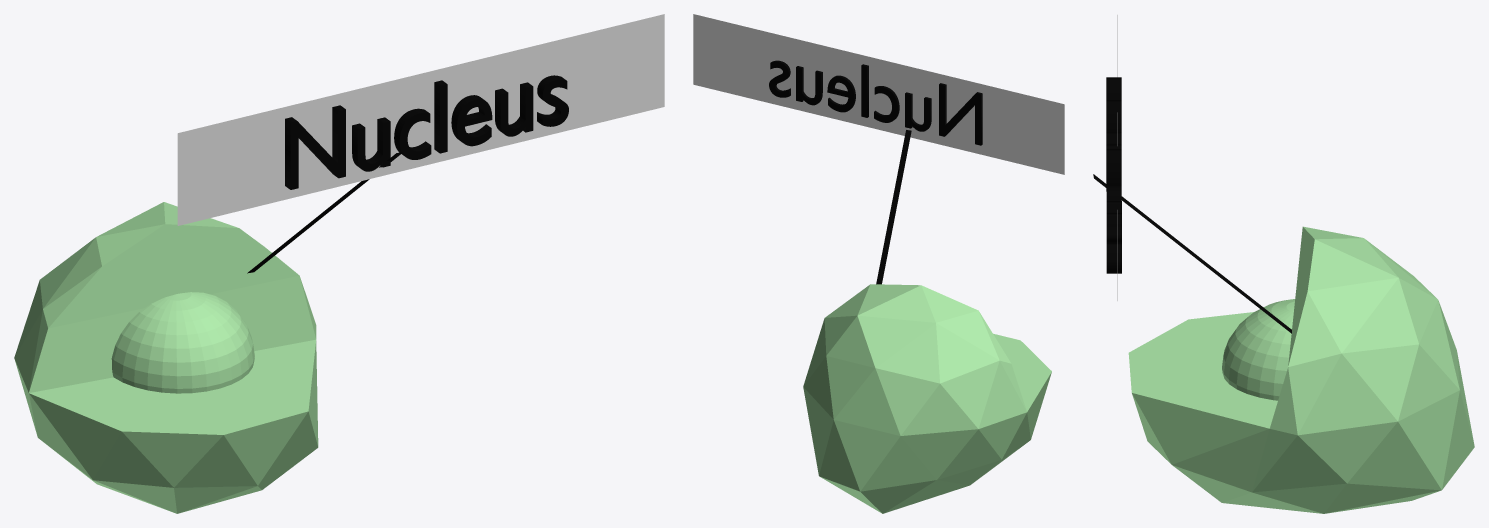
Rendered from nucleus.gltf.
The picture shows the model from 3 angles, left to right: view 1: azimuth 30°, elevation 25°; view 2: azimuth 150°, elevation 25°; view 3: azimuth 270°, elevation 25°; orthographic projection. The views are drawn at different scales.
Parts seen in each view (by area): view 1: Icosphere.001, Plane.008, Text.010; view 2: Icosphere.001, Plane.008, Text.010, Plane.035; view 3: Icosphere.001, Text.010, Plane.035.
Part boxes in pixels (x1=…): Icosphere.001: x1=14, y1=202, x2=318, y2=513; Plane.008: x1=177, y1=14, x2=664, y2=225; Text.010: x1=285, y1=75, x2=568, y2=189; Icosphere.001: x1=803, y1=284, x2=1051, y2=513; Plane.008: x1=693, y1=14, x2=1064, y2=174; Text.010: x1=769, y1=60, x2=982, y2=145; Plane.035: x1=876, y1=130, x2=911, y2=284; Icosphere.001: x1=1128, y1=226, x2=1474, y2=513; Text.010: x1=1106, y1=77, x2=1121, y2=273; Plane.035: x1=1093, y1=174, x2=1291, y2=333.
Bounding box in the file's own units: 1.47 × 1.18 × 0.9186.
